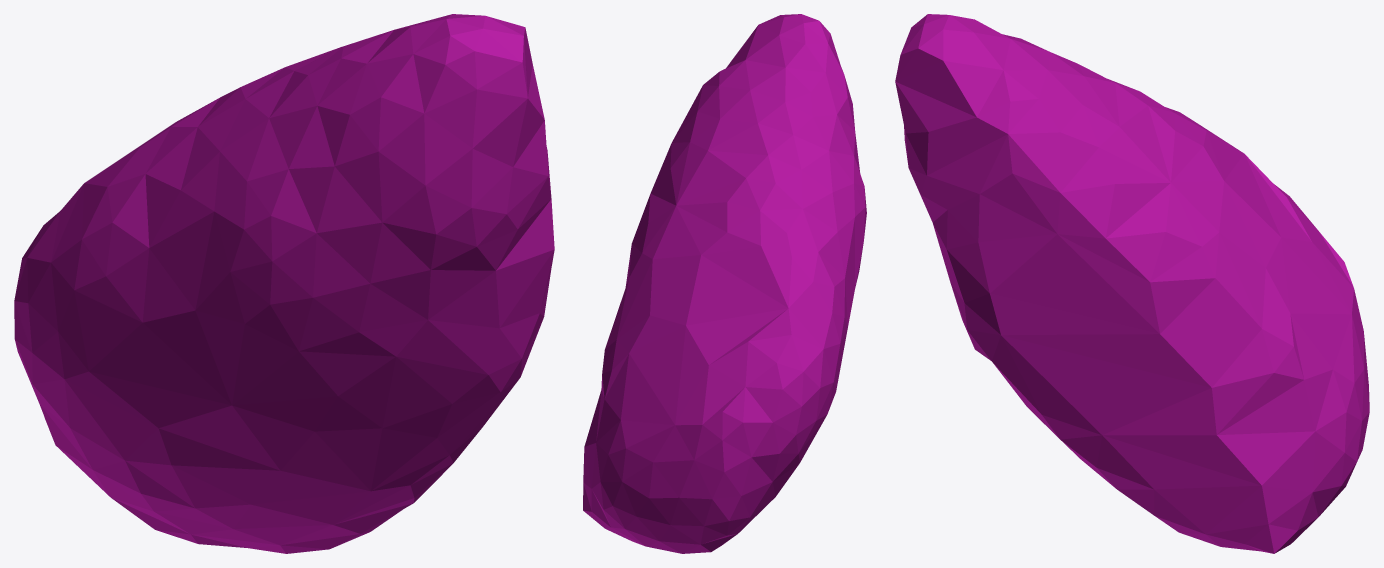
The model's file is Model_589_RH__Prepositus_nucleus_(Pr).obj.
The picture shows the model from 3 angles, left to right: view 1: azimuth 30°, elevation 25°; view 2: azimuth 150°, elevation 25°; view 3: azimuth 270°, elevation 25°; orthographic projection. The views are drawn at different scales.
Bounding box in the file's own units: 0.5855 × 1.03 × 0.8649.
